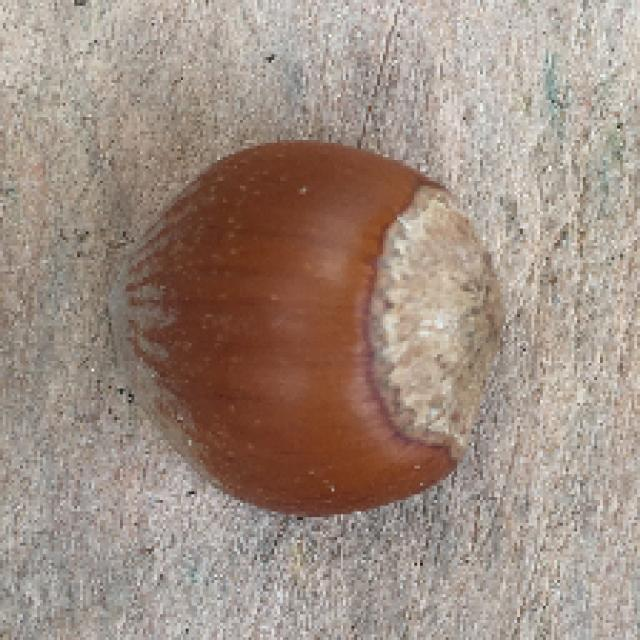qualityHazelnut: (108, 130, 508, 518)
